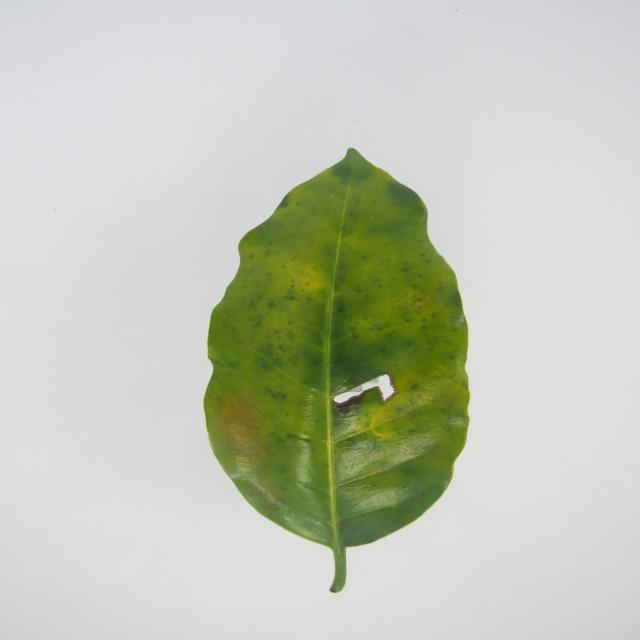DeficienciaNutricional-Fosforo: (205, 149, 470, 592)
